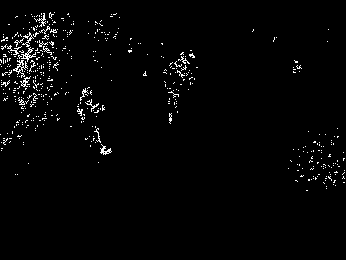person: (75, 85, 113, 155)
